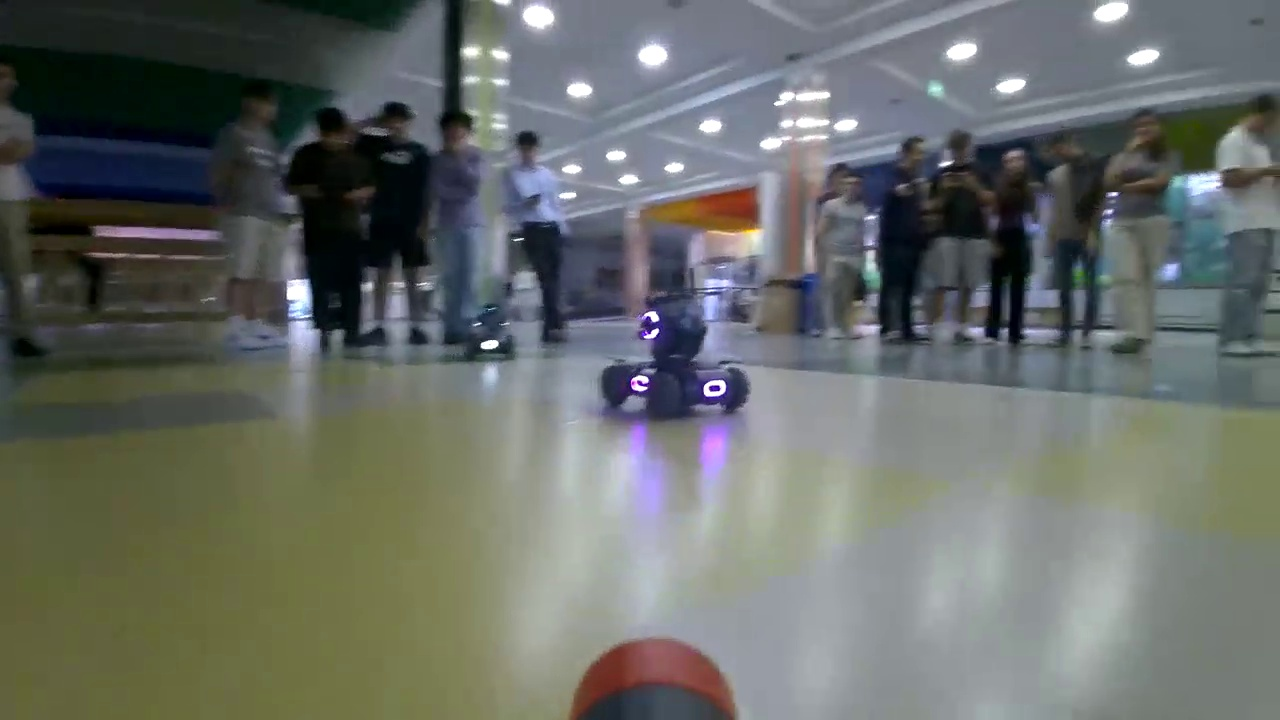robot: (600, 302, 744, 410), (466, 304, 520, 362)
